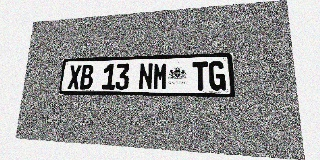1: (102, 64, 116, 90)
3: (115, 64, 130, 90)
B: (79, 64, 94, 90)
G: (208, 61, 226, 90)
M: (153, 63, 168, 90)
N: (138, 63, 153, 90)
T: (192, 62, 209, 90)
X: (67, 65, 81, 90)
